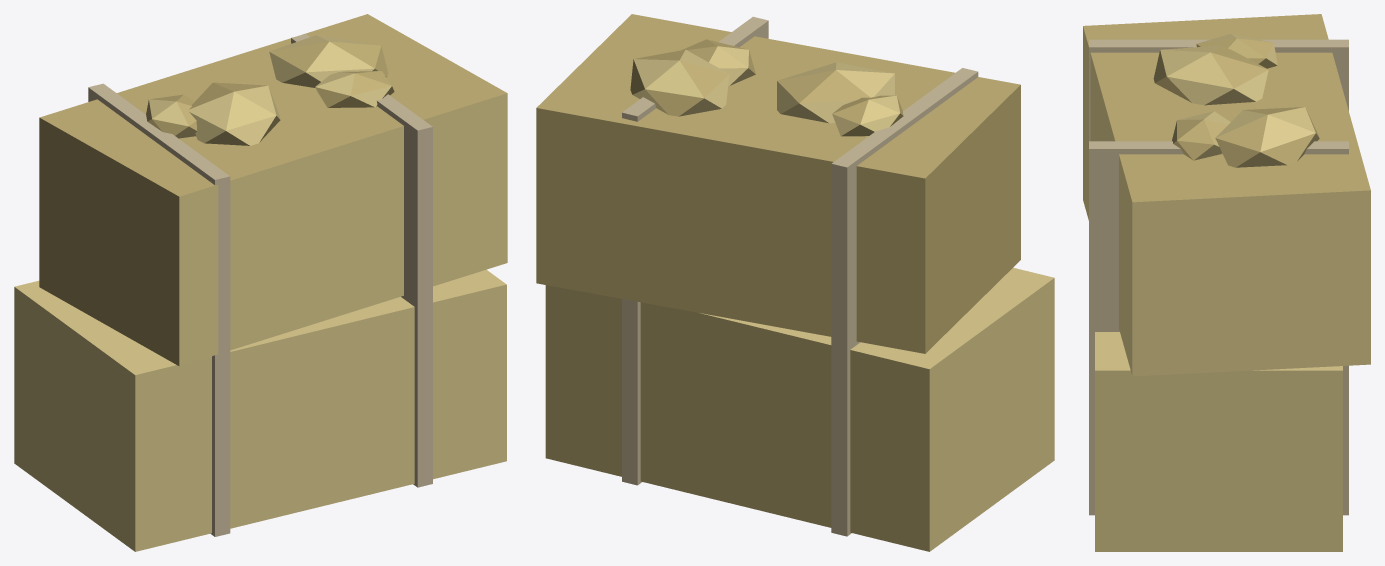
Rendered from hay_square.glb.
3 views of the same model, side by side, from view 1: azimuth 30°, elevation 25°; view 2: azimuth 150°, elevation 25°; view 3: azimuth 270°, elevation 25° (orthographic). The views are drawn at different scales.
Parts seen in each view (by area): view 1: hay_square; view 2: hay_square; view 3: hay_square.
Part boxes in pixels (<box>): hay_square: <box>14,14,507,551</box>; hay_square: <box>536,14,1054,551</box>; hay_square: <box>1083,14,1370,551</box>.
Size of the model in its own units: 1.16 by 1.08 by 0.7192.
